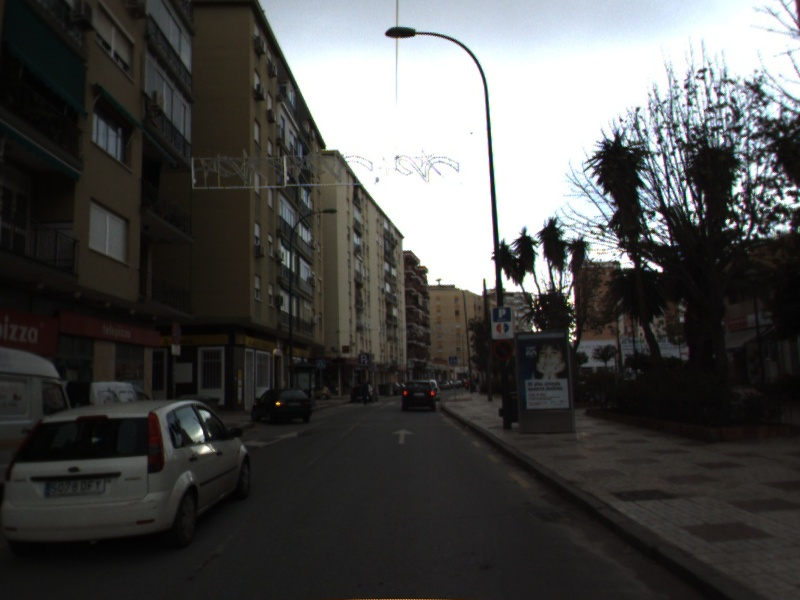STRAIGHT: (390, 427, 416, 446)
STRAIGHT_LEFT: (242, 429, 300, 450)
